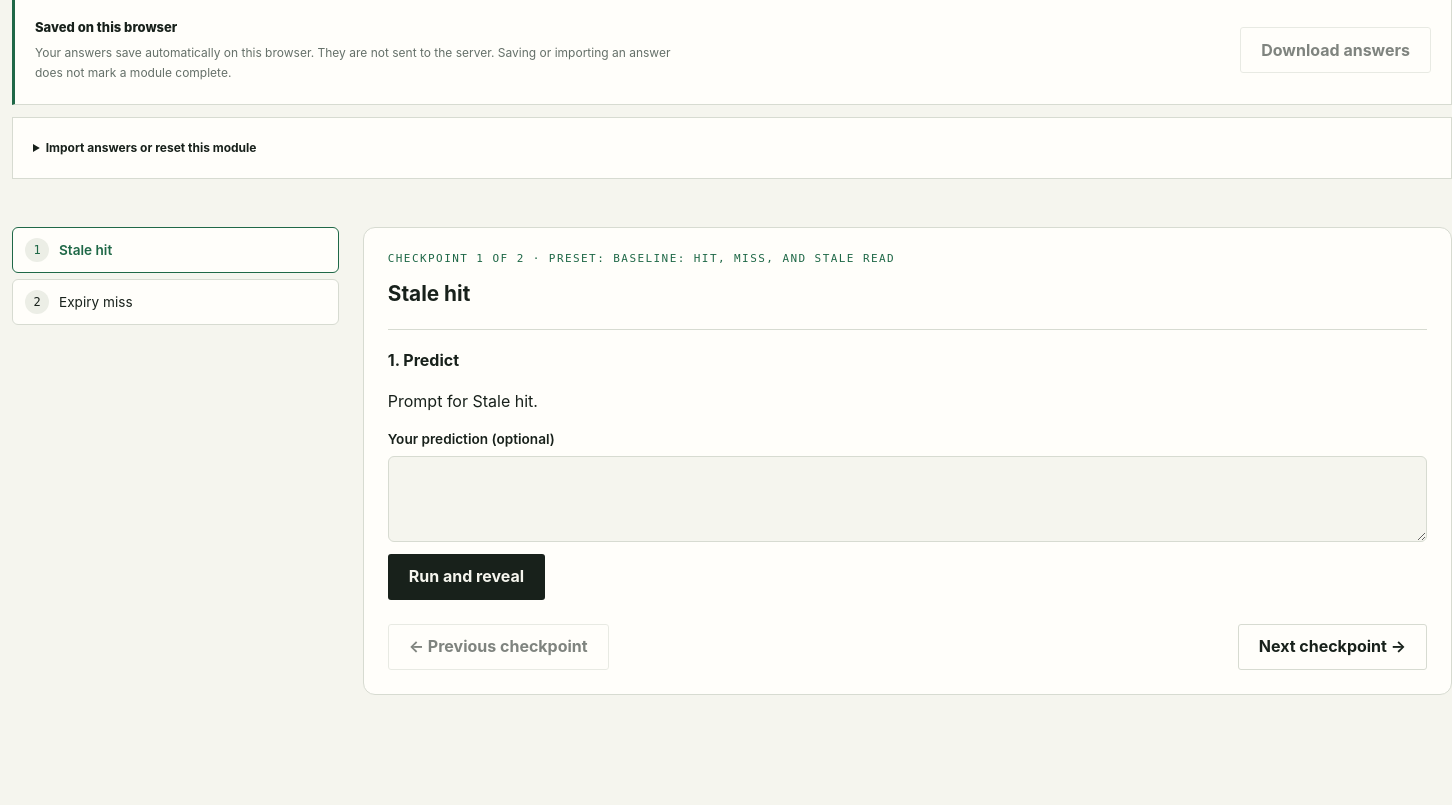
Test: GuidedCheckpoints › shows a backend failure and recovers on retry
Click the button "Run and reveal" at [466, 576], box [388, 554, 545, 600]
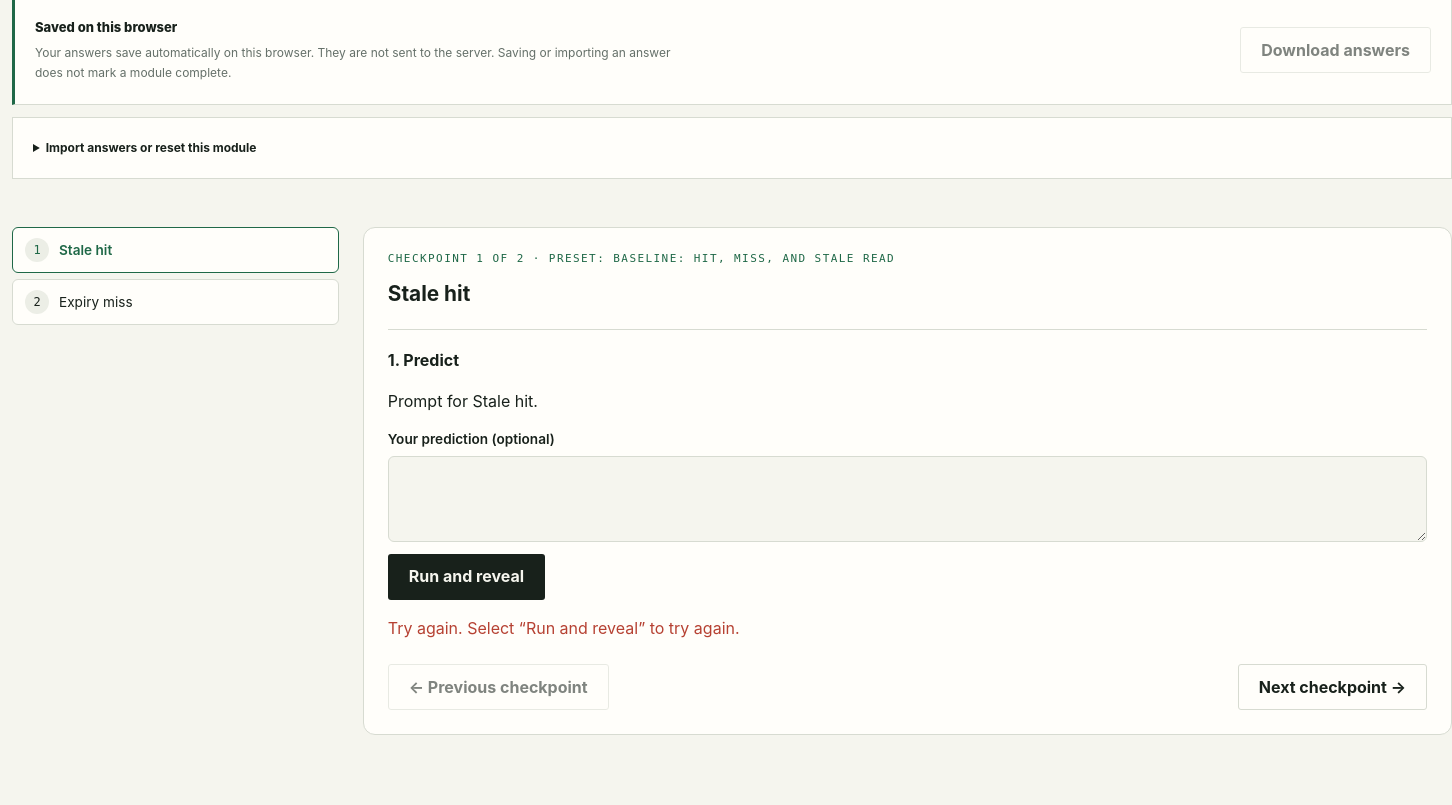
Result: the message "Try again. Select “Run and reveal” to try again." is shown at [388, 618, 740, 638]
Click the button "Run and reveal" at [466, 576], box [388, 554, 545, 600]
(page scrolled)
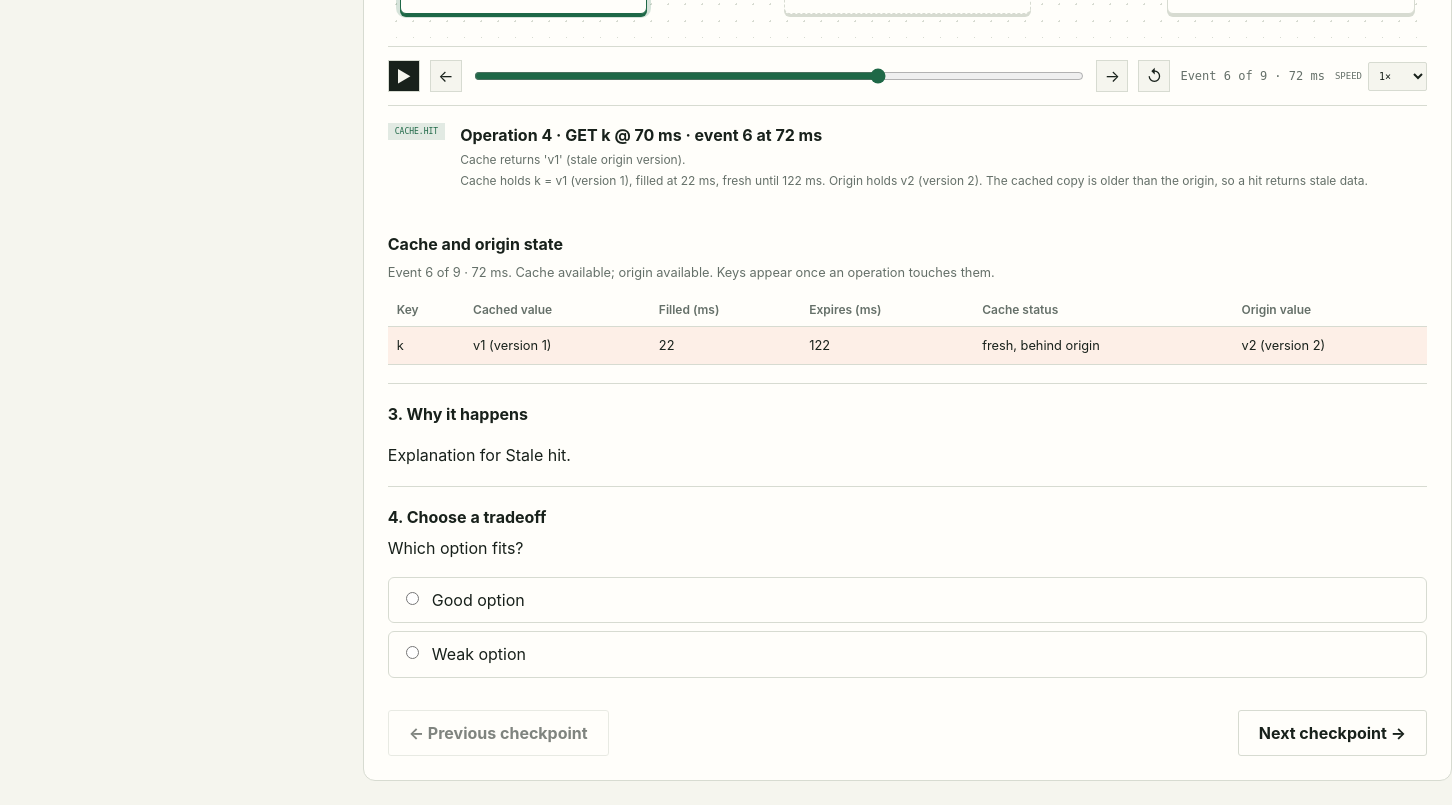
Result: the text "Explanation for Stale hit." is shown at [388, 445, 571, 465]
Result: the message "Try again. Select “Run and reveal” to try again." is gone
